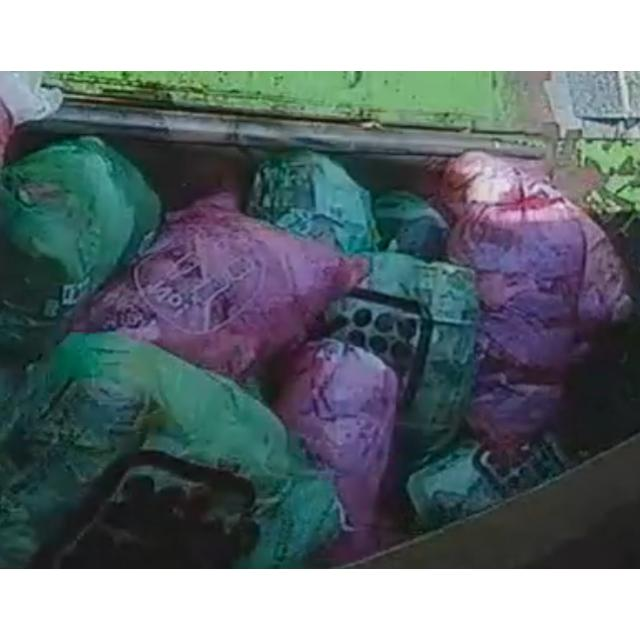general_trashbag: (0, 334, 340, 569), (0, 136, 161, 367), (330, 252, 478, 455), (249, 151, 378, 254)
other_trashbag: (81, 192, 369, 377), (449, 204, 584, 464), (258, 338, 396, 531)
